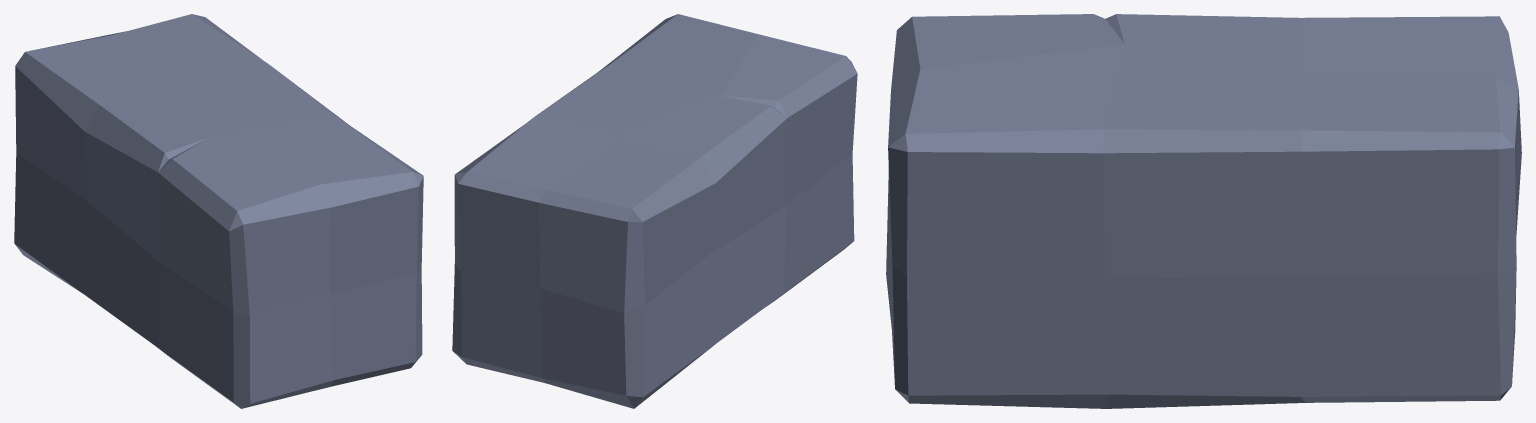
Rendered from RockPlatforms02.fbx.
3 renders of one model, left to right at view 1: azimuth 30°, elevation 25°; view 2: azimuth 150°, elevation 25°; view 3: azimuth 270°, elevation 25°, orthographic. The views are drawn at different scales.
Visible parts, largest first — view 1: Cube.001; view 2: Cube.001; view 3: Cube.001.
Part boxes in pixels (x1,y1,x2,y2): Cube.001: (14, 14, 423, 408); Cube.001: (452, 14, 857, 408); Cube.001: (886, 14, 1521, 408).
Bounding box in the file's own units: 205 × 206 × 421.
